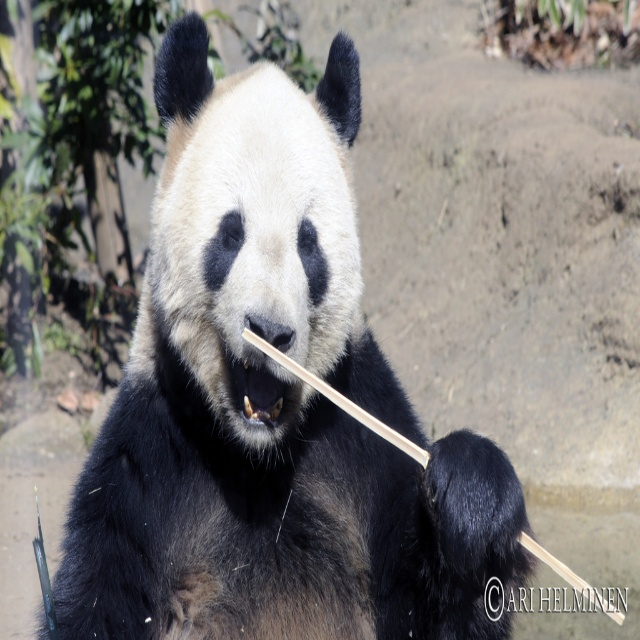Panda: (32, 5, 535, 639)
